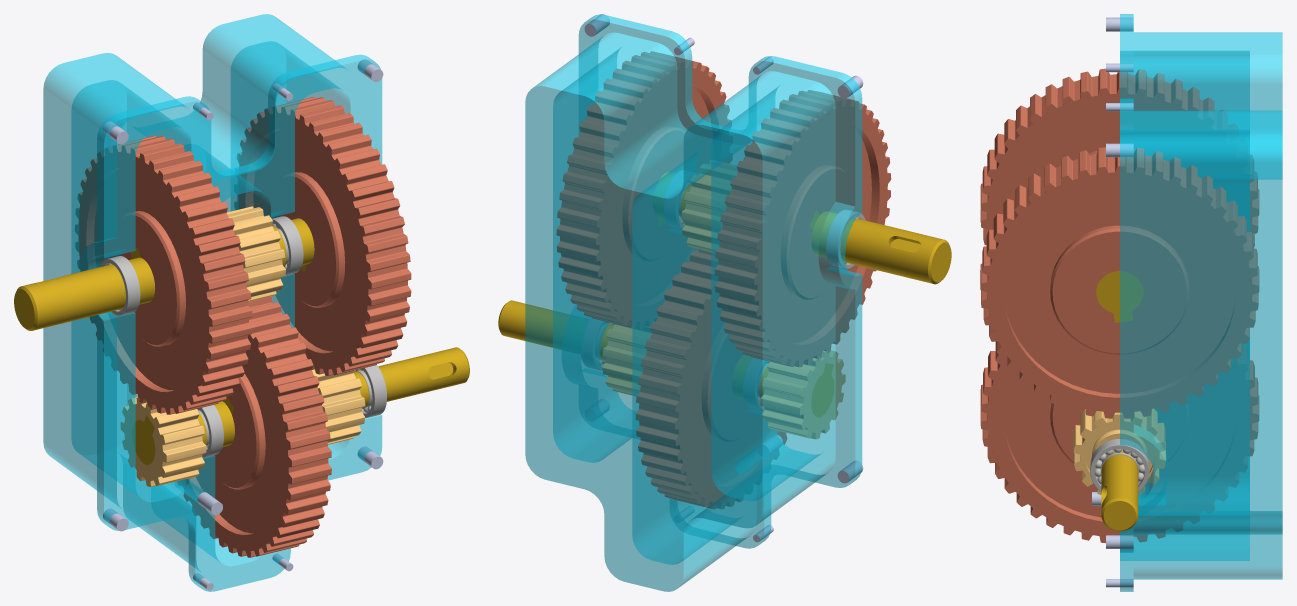
File: car_seat.glb
3 renders of one model, left to right at view 1: azimuth 30°, elevation 25°; view 2: azimuth 150°, elevation 25°; view 3: azimuth 270°, elevation 25°, orthographic.
Visible parts, largest first — view 1: Part 8-1, Part 5-3, Part 5-1, Part 5-2, Part 3-1, Part 6-2, Part 6-1, Part 1-1, Part 4-1, Part 2-2, radial ball cbearing_68_iso-2, radial ball cbearing_68_iso-4 (+3 smaller); view 2: Part 8-1, Part 5-3, Part 5-1, Part 5-2, Part 3-1, Part 6-2, Part 6-1, Part 1-1, Part 4-1, Part 2-2, radial ball cbearing_68_iso-4, radial ball cbearing_68_iso-2 (+3 smaller); view 3: Part 8-1, Part 5-1, Part 5-2, Part 5-3, Part 4-1, Part 1-1, Part 2-1, radial ball cbearing_68_iso-1, Part 9-1, Part 9-5.
Boxes of the visible parts, left/top/right/bottom form: Part 8-1: left=43, top=14, right=382, bottom=591; Part 5-3: left=75, top=135, right=252, bottom=414; Part 5-1: left=235, top=97, right=411, bottom=375; Part 5-2: left=177, top=296, right=331, bottom=557; Part 3-1: left=14, top=247, right=155, bottom=330; Part 6-2: left=120, top=397, right=206, bottom=486; Part 6-1: left=227, top=206, right=285, bottom=301; Part 1-1: left=354, top=347, right=469, bottom=407; Part 4-1: left=312, top=369, right=365, bottom=444; Part 2-2: left=132, top=396, right=234, bottom=465; radial ball cbearing_68_iso-2: left=272, top=216, right=303, bottom=275; radial ball cbearing_68_iso-4: left=100, top=256, right=140, bottom=315; Part 8-1: left=525, top=14, right=862, bottom=591; Part 5-3: left=714, top=90, right=891, bottom=367; Part 5-1: left=556, top=51, right=731, bottom=327; Part 5-2: left=635, top=250, right=787, bottom=508; Part 3-1: left=809, top=210, right=951, bottom=284; Part 6-2: left=760, top=350, right=845, bottom=439; Part 6-1: left=681, top=160, right=737, bottom=253; Part 1-1: left=498, top=300, right=613, bottom=360; Part 4-1: left=602, top=324, right=651, bottom=395; Part 2-2: left=732, top=355, right=834, bottom=417; radial ball cbearing_68_iso-4: left=826, top=209, right=865, bottom=268; radial ball cbearing_68_iso-2: left=664, top=170, right=698, bottom=228; Part 8-1: left=1120, top=14, right=1282, bottom=591; Part 5-1: left=980, top=147, right=1259, bottom=418; Part 5-2: left=980, top=341, right=1259, bottom=543; Part 5-3: left=980, top=68, right=1259, bottom=247; Part 4-1: left=1073, top=408, right=1165, bottom=494; Part 1-1: left=1101, top=438, right=1138, bottom=531; Part 2-1: left=1096, top=271, right=1143, bottom=322; radial ball cbearing_68_iso-1: left=1090, top=439, right=1149, bottom=491; Part 9-1: left=1106, top=17, right=1133, bottom=31; Part 9-5: left=1106, top=143, right=1133, bottom=157.
Size of the model in its own units: 0.11 by 0.119 by 0.065.
